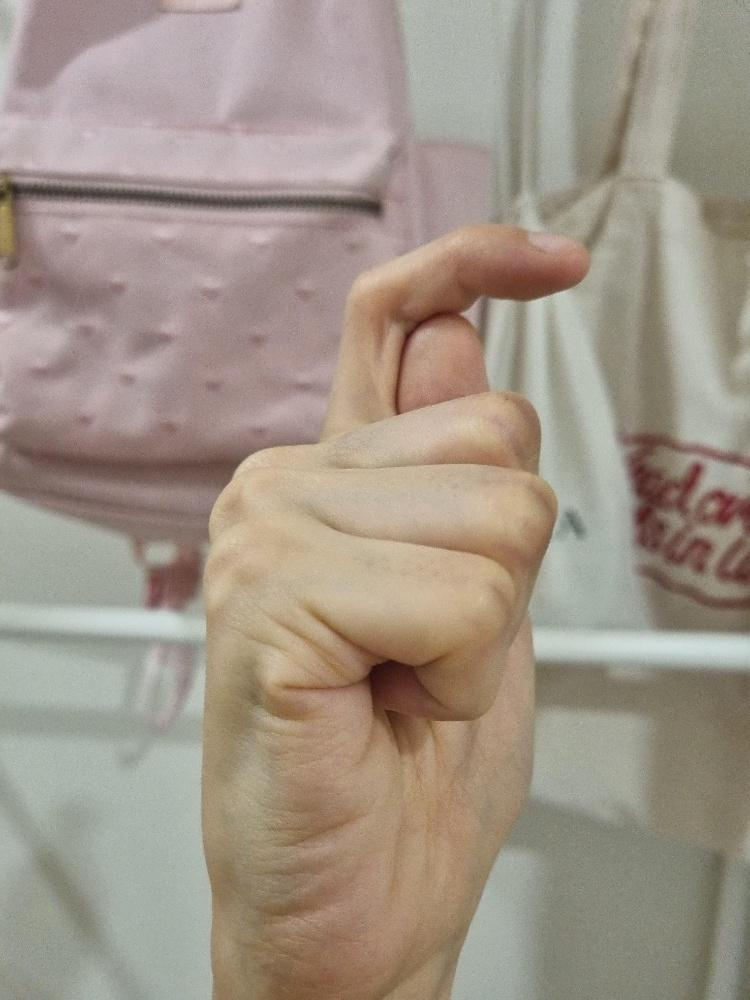t: (196, 216, 592, 993)
